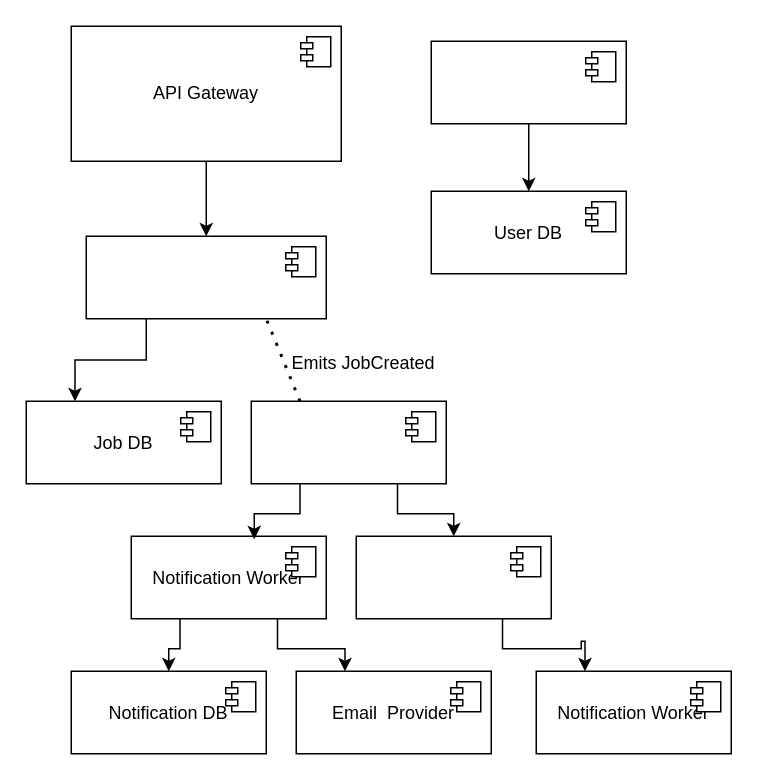
This 758x780 diagram has some shape labels left out. Here are the shapes that lost their labels. From the top down, the centre of each, then its label:
At (528,82): "User Service".
At (205,277): "Job Command Service".
At (348,442): "Event Broker".
At (453,577): "Search Worker".
